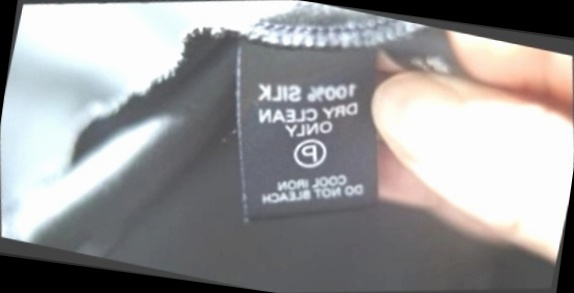dry_clean_any_solvent_except_trichloroethylene: (281, 126, 337, 179)
